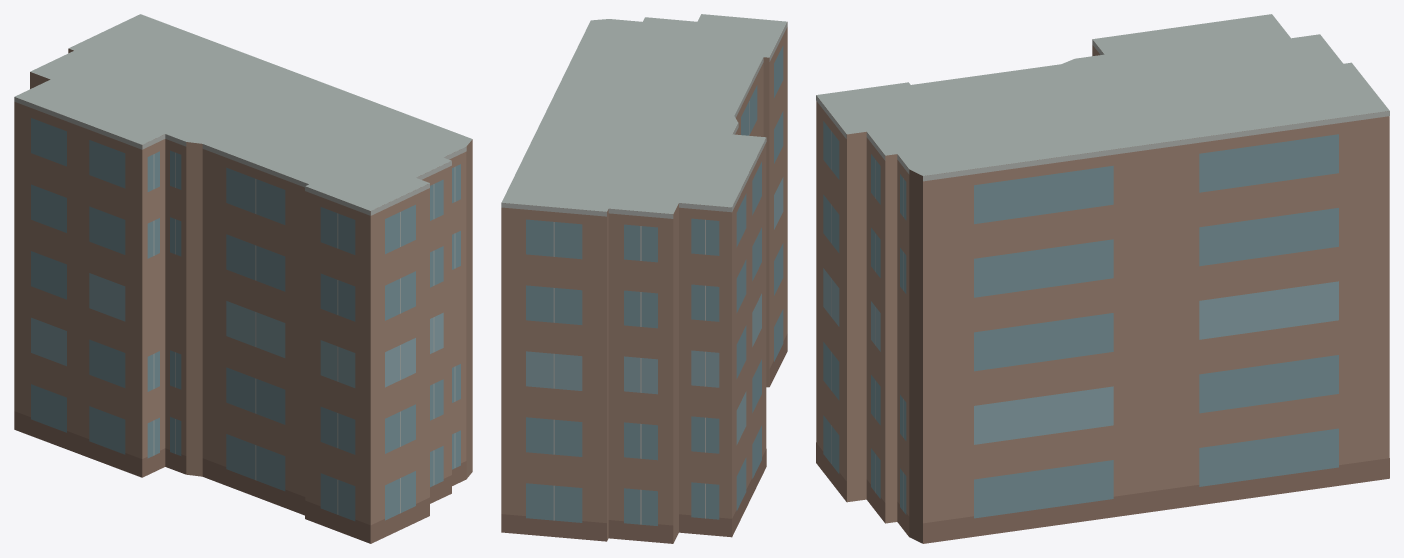
Rendered from survey-upis-32763592.glb.
3 renders of one model, left to right at view 1: azimuth 30°, elevation 25°; view 2: azimuth 150°, elevation 25°; view 3: azimuth 270°, elevation 25°, orthographic. The views are drawn at different scales.
Parts seen in each view (by area): view 1: survey-upis-32763592.tmp; view 2: survey-upis-32763592.tmp; view 3: survey-upis-32763592.tmp.
Part boxes in pixels (x1,y1,x2,y2): survey-upis-32763592.tmp: [14, 14, 472, 543]; survey-upis-32763592.tmp: [501, 14, 787, 543]; survey-upis-32763592.tmp: [816, 14, 1389, 543].
Bounding box in the file's own units: 15.88 × 16.8 × 23.76.
